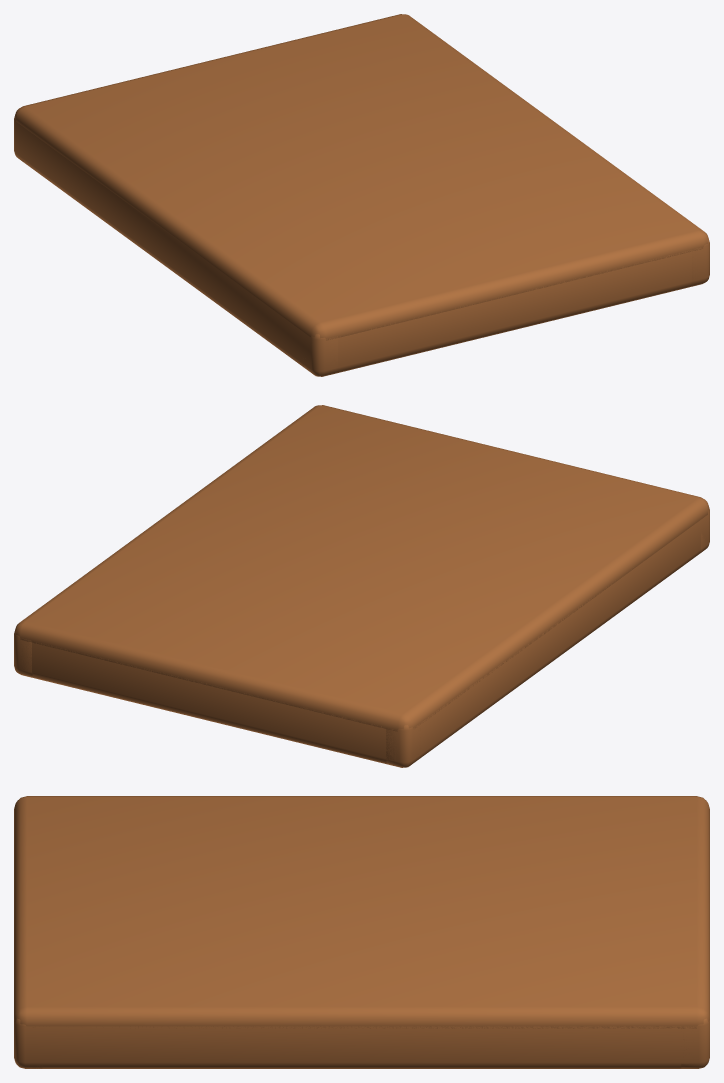
Rendered from SmallWallFrame.fbx.
3 renders of one model, top to bottom at view 1: azimuth 30°, elevation 25°; view 2: azimuth 150°, elevation 25°; view 3: azimuth 270°, elevation 25°, orthographic. The views are drawn at different scales.
Parts seen in each view (by area): view 1: SmallWallFrame; view 2: SmallWallFrame; view 3: SmallWallFrame.
Boxes of the visible parts, x1,y1,x2,y2 form: SmallWallFrame: (14, 14, 709, 376); SmallWallFrame: (14, 405, 709, 767); SmallWallFrame: (14, 796, 709, 1068).
Size of the model in its own units: 0.42 by 0.0605 by 0.56.
